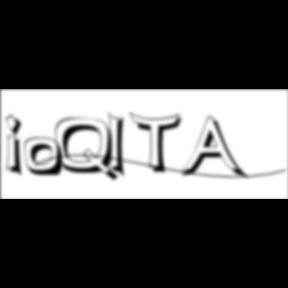A: (180, 116, 250, 182)
I: (108, 110, 132, 182)
Q: (56, 117, 122, 184)
T: (129, 112, 187, 176)
i: (6, 112, 30, 180)
o: (24, 137, 66, 179)
